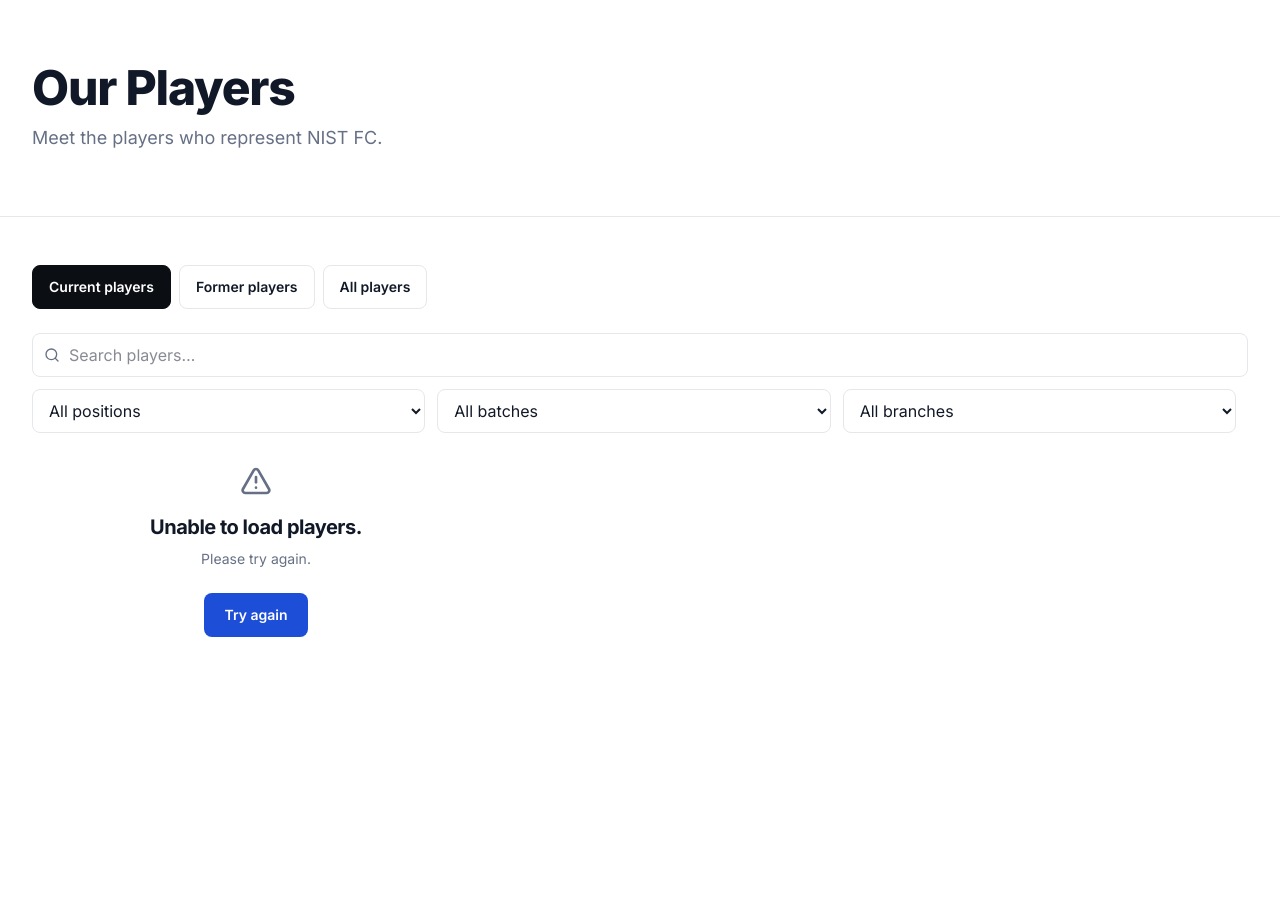
Test case: Players page › shows an error with Retry
The width and height of the screenshot is (1280, 900).
Expected: the heading "Unable to load players." is shown, [150,513,362,541]
Click the button "Try again".
click(256, 615)  # box [204,593,308,637]
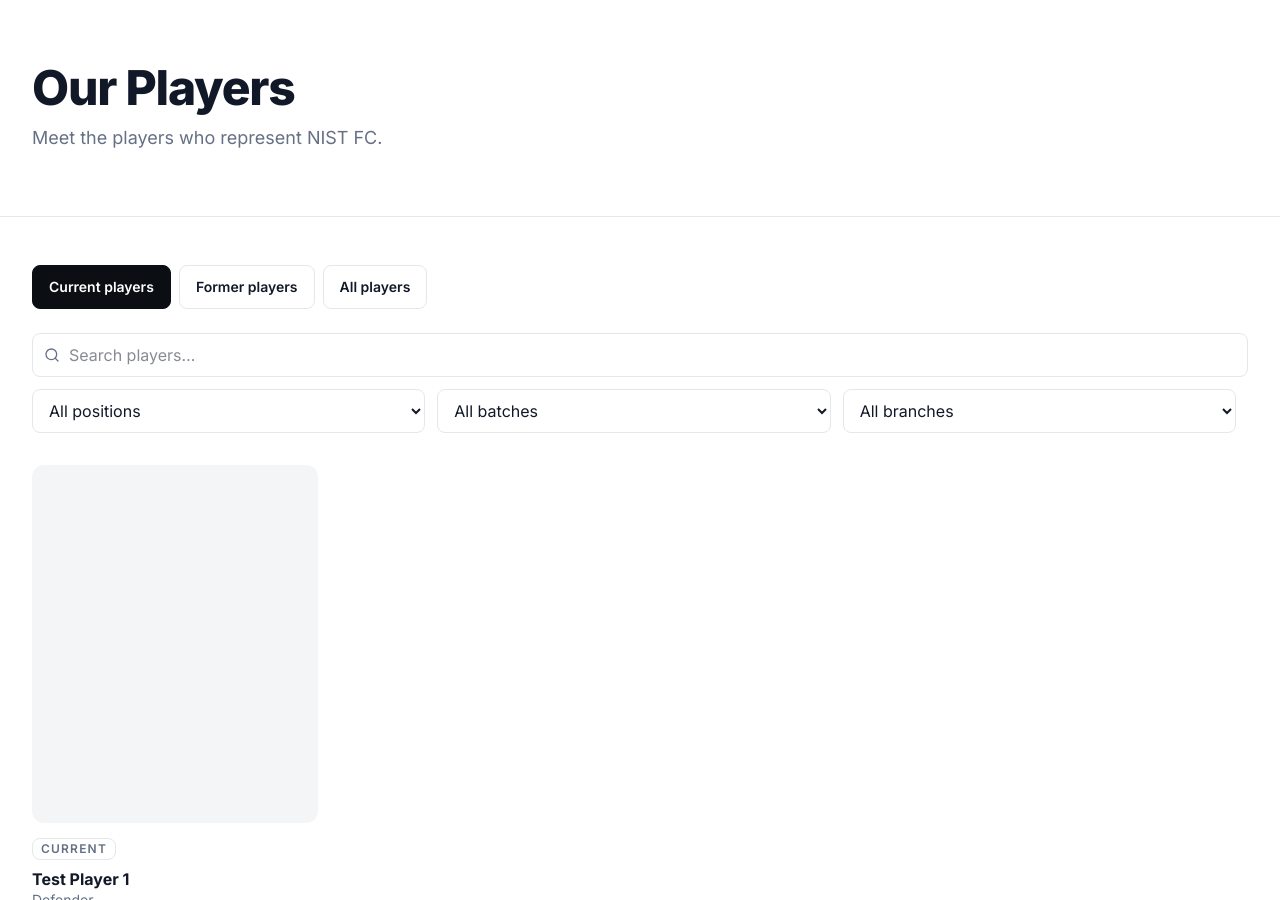
Expected: the link "Test Player 1" is shown, [32,868,129,888]
